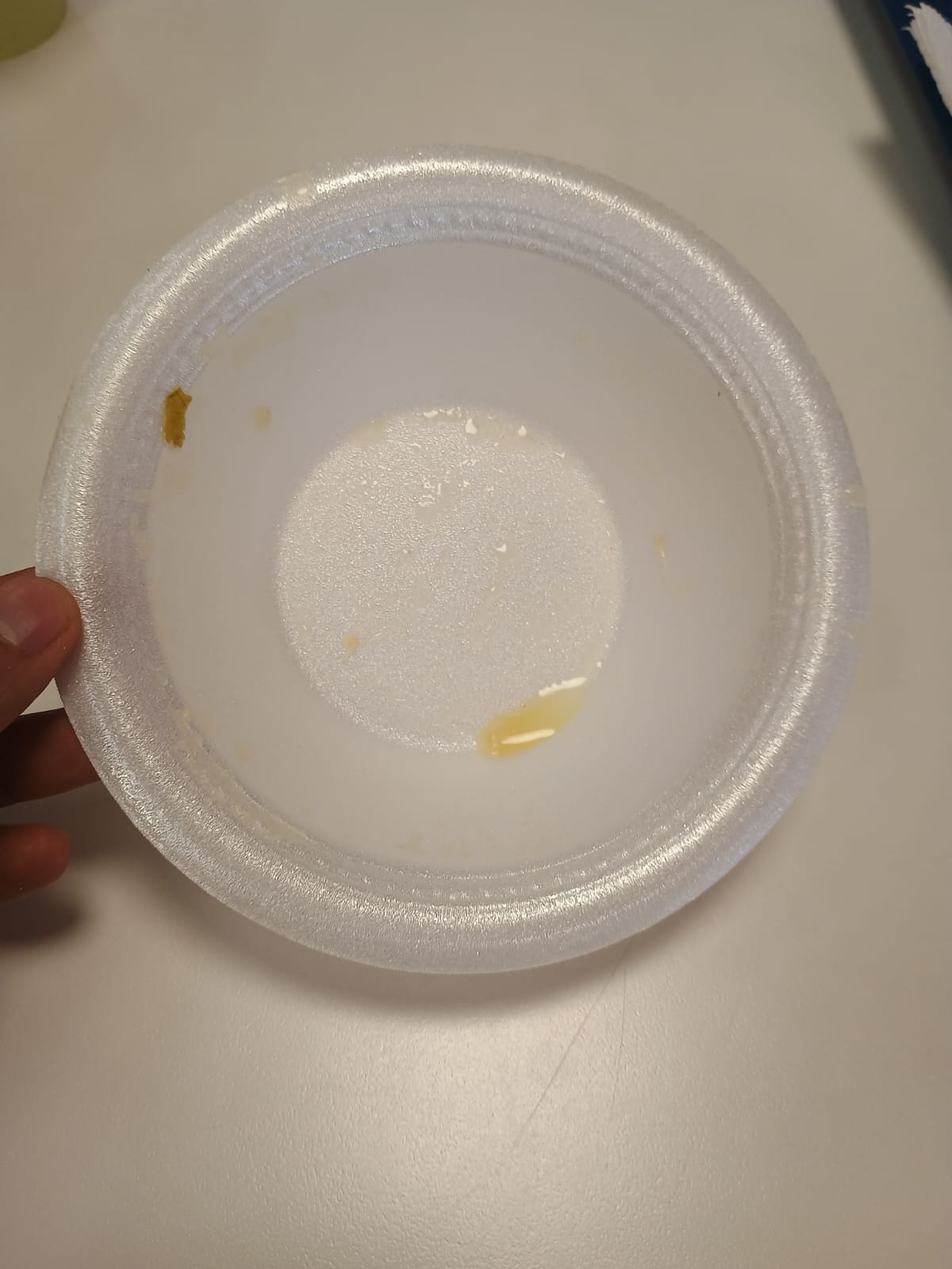Ordinario: (32, 149, 875, 975)
